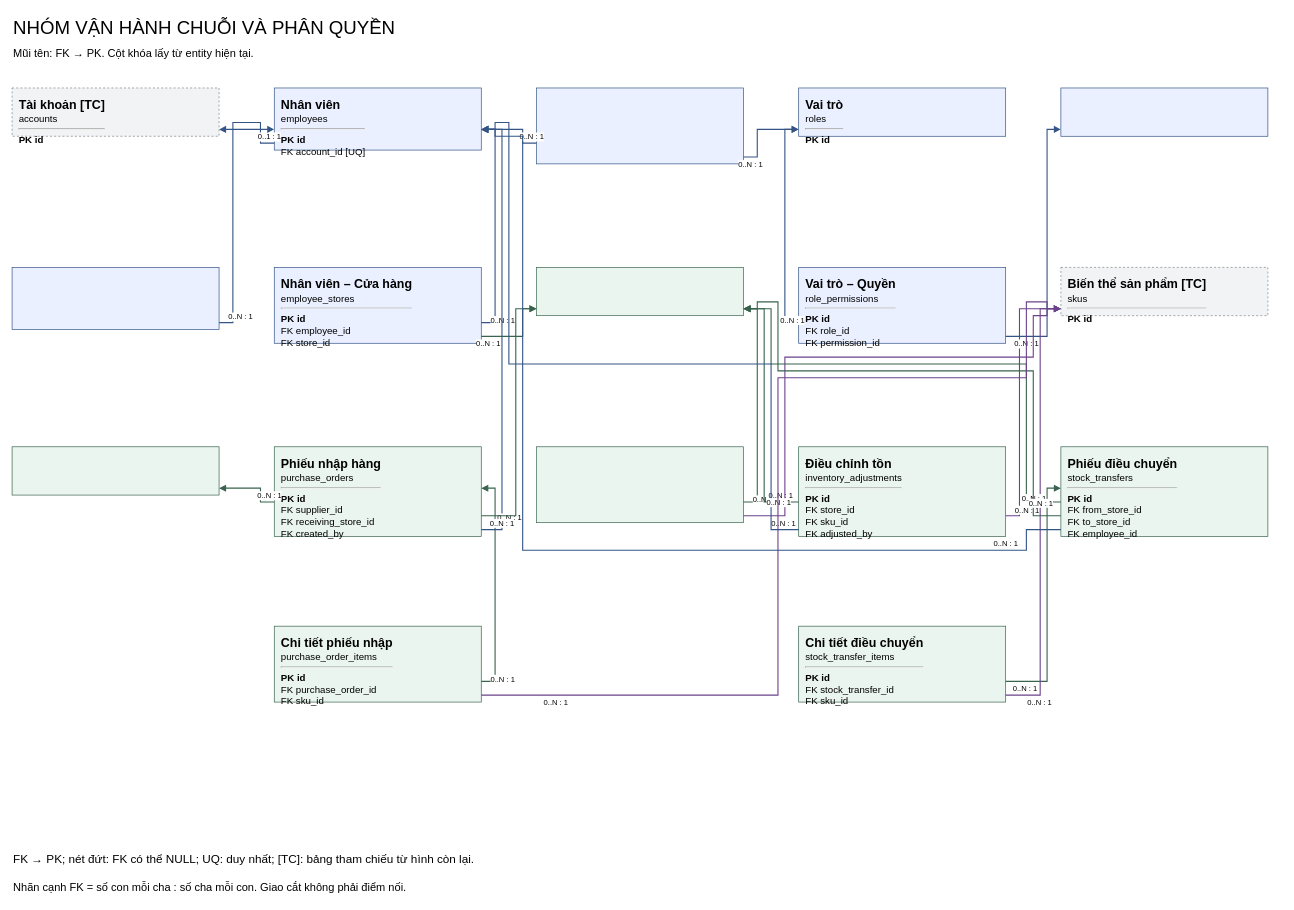
Image size: 1294x910. Some labels were removed from this diagram. Each missing label, with the box of its shape:
Cửa hàng stores PK id: (536, 267, 743, 316)
Nhà cung cấp suppliers PK id: (11, 446, 219, 495)
Nhân viên – Vai trò employee_roles PK id FK employee_id FK role_id: (536, 87, 743, 164)
Nhật ký thao tác audit_logs PK id FK employee_id: (11, 267, 219, 329)
Quyền permissions PK id: (1060, 87, 1268, 136)
Tồn kho inventories PK id FK store_id FK sku_id: (536, 446, 743, 523)
